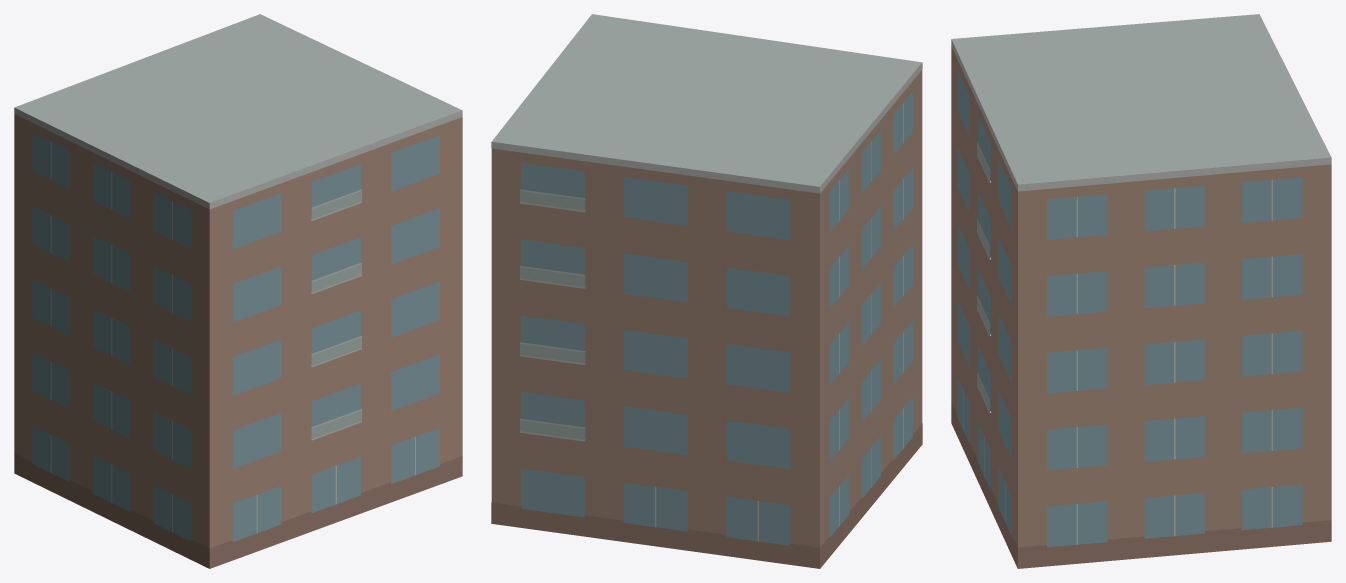
The model's file is survey-upis-32991038.glb.
3 renders of one model, left to right at view 1: azimuth 30°, elevation 25°; view 2: azimuth 150°, elevation 25°; view 3: azimuth 270°, elevation 25°, orthographic. The views are drawn at different scales.
Parts seen in each view (by area): view 1: survey-upis-32991038.tmp; view 2: survey-upis-32991038.tmp; view 3: survey-upis-32991038.tmp.
Part boxes in pixels (x1=…): survey-upis-32991038.tmp: x1=14, y1=14, x2=462, y2=568; survey-upis-32991038.tmp: x1=491, y1=14, x2=922, y2=568; survey-upis-32991038.tmp: x1=951, y1=14, x2=1331, y2=568.
Bounding box in the file's own units: 13.27 × 13.9 × 12.48.
